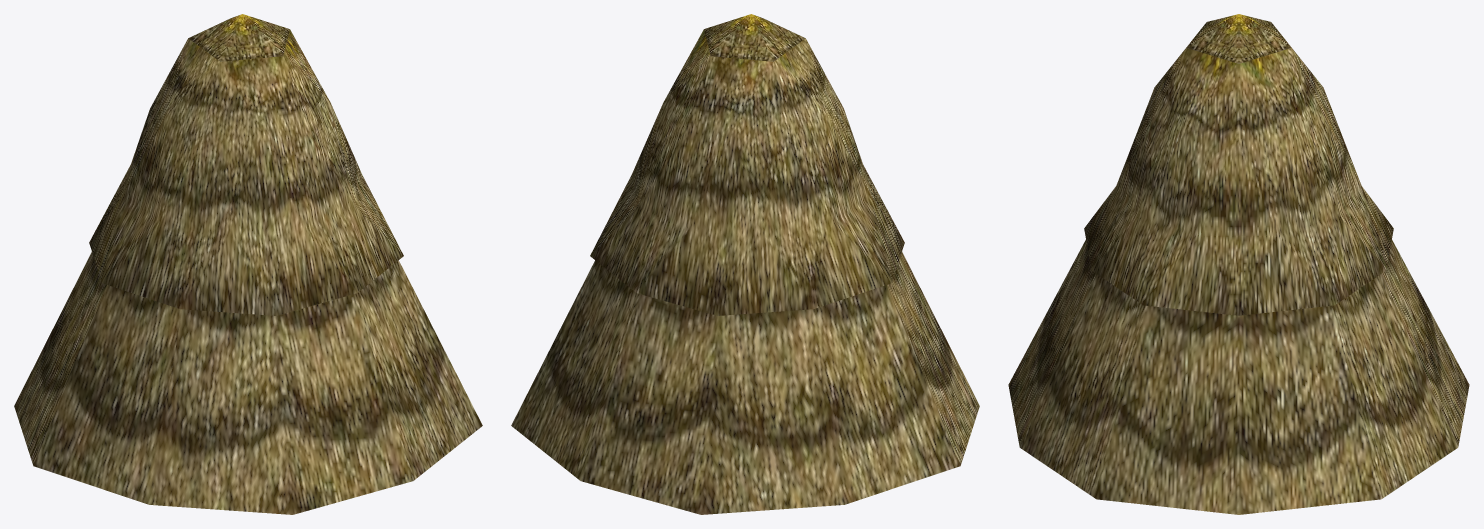
Rendered from fodder.glb.
3 renders of one model, left to right at view 1: azimuth 30°, elevation 25°; view 2: azimuth 150°, elevation 25°; view 3: azimuth 270°, elevation 25°, orthographic.
Parts seen in each view (by area): view 1: fodder; view 2: fodder; view 3: fodder.
Boxes of the visible parts, x1,y1,x2,y2 form: fodder: (14,14,482,514); fodder: (511,14,979,514); fodder: (1008,14,1469,514).
Size of the model in its own units: 1.06 by 1 by 1.04.
Materials: 1 (1 with a texture image).
